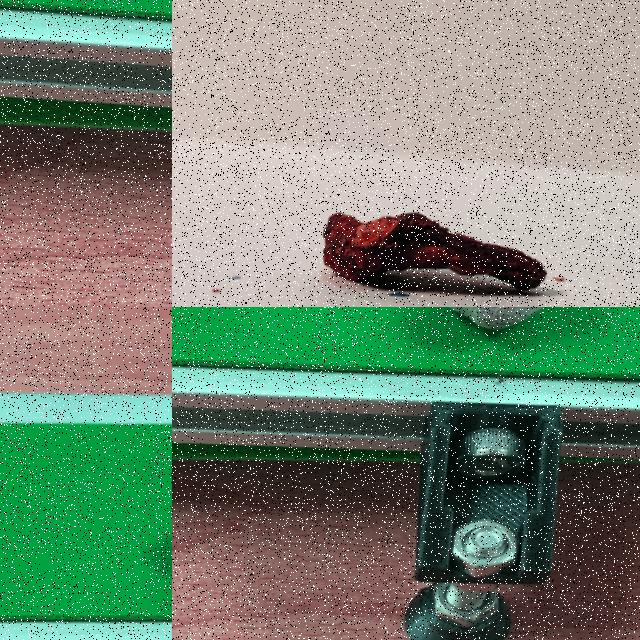Agglomerated_cocoabeans: (327, 307, 639, 397)
Fine_cocoabeans: (90, 472, 171, 626)
Flat_cocoabeans: (237, 141, 639, 306)
